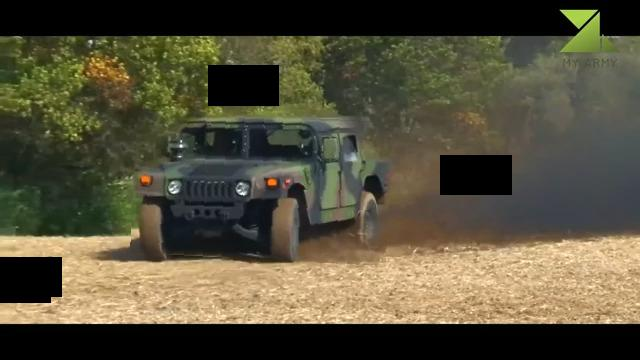MIL_HMMWV: (132, 113, 392, 263)
